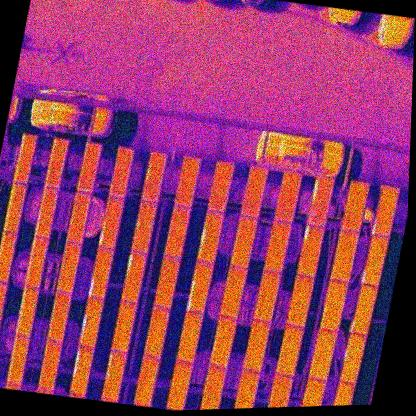Diode: (349, 282, 378, 335), (295, 224, 324, 277), (185, 260, 213, 314), (360, 234, 388, 288), (196, 209, 224, 263), (371, 183, 399, 237), (306, 174, 334, 228), (338, 331, 366, 385), (119, 249, 147, 302), (97, 195, 125, 248), (87, 244, 114, 298), (67, 344, 94, 398), (77, 295, 104, 349), (100, 347, 126, 402), (140, 151, 167, 203), (0, 229, 16, 282), (328, 380, 355, 406), (0, 277, 9, 332)
Hotspot: (130, 200, 156, 253)
Normal: (318, 277, 348, 332), (273, 168, 302, 222), (330, 229, 359, 282), (340, 179, 369, 232), (274, 323, 303, 376), (309, 327, 338, 380), (253, 268, 281, 322), (219, 264, 247, 318), (263, 218, 291, 272), (163, 204, 191, 258), (239, 164, 267, 218), (206, 159, 234, 213), (173, 154, 201, 208), (175, 309, 203, 363), (286, 274, 314, 327), (229, 215, 257, 268), (208, 315, 236, 368), (143, 304, 170, 358), (242, 319, 270, 371), (153, 255, 180, 308), (133, 355, 160, 408), (76, 141, 102, 195), (36, 338, 62, 392), (4, 333, 30, 387), (110, 299, 136, 353), (56, 239, 81, 295), (34, 185, 60, 238), (1, 180, 27, 233), (46, 290, 72, 343), (166, 359, 192, 411), (23, 234, 48, 288), (109, 145, 134, 199), (65, 191, 90, 244), (13, 284, 38, 337), (44, 137, 69, 188), (199, 363, 226, 410), (13, 132, 37, 183), (232, 367, 259, 409), (266, 373, 293, 408), (298, 376, 326, 407)
